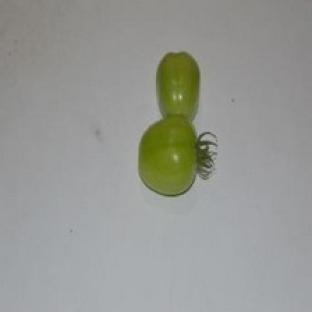Tomato: (140, 116, 196, 194), (156, 52, 200, 119)
